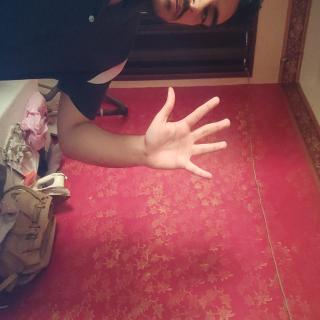SHEEN: (63, 116, 137, 238)
